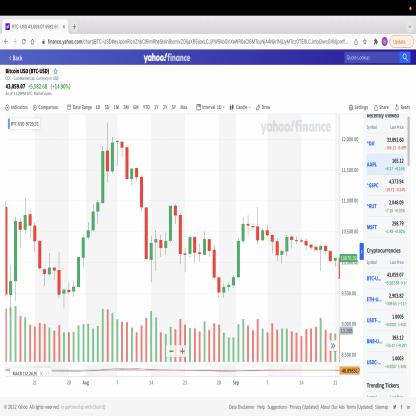Bullish: Morning Star Doji: (178, 211, 192, 276)
